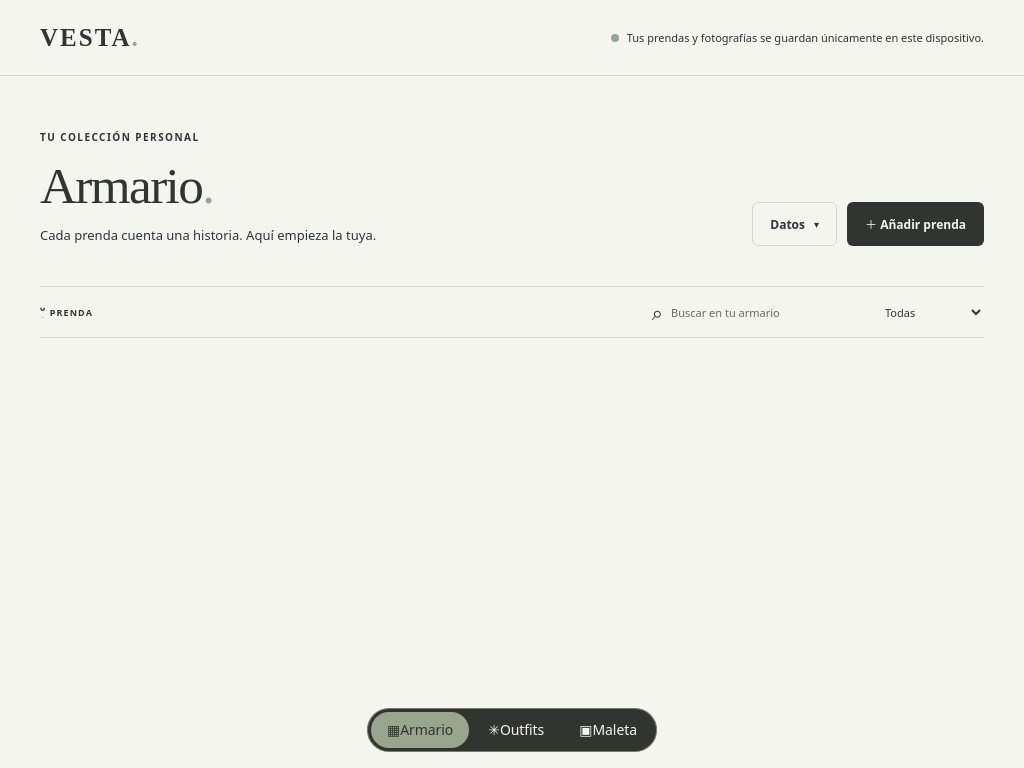
Test: wardrobe flow › filters the visible catalogue by category
Select "Parte inferior" in the dropdown named "Filtrar por categoría": point(930, 312) [877,297,984,328]
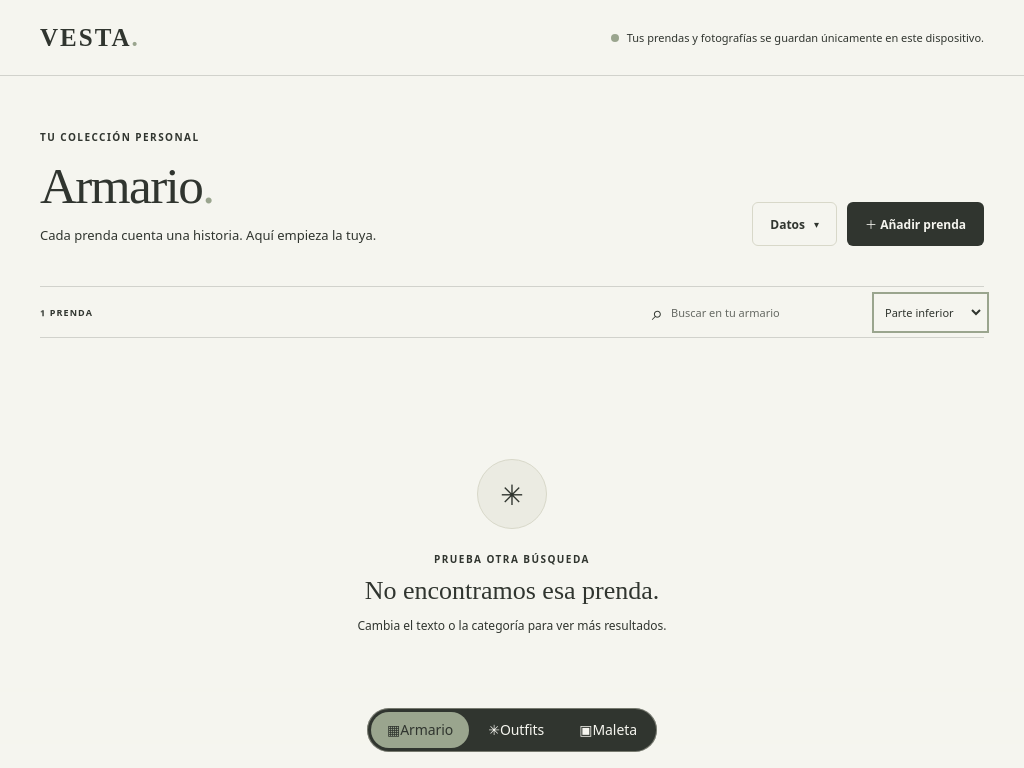
Expected: the heading "No encontramos esa prenda." is shown, [365,576,659,606]
